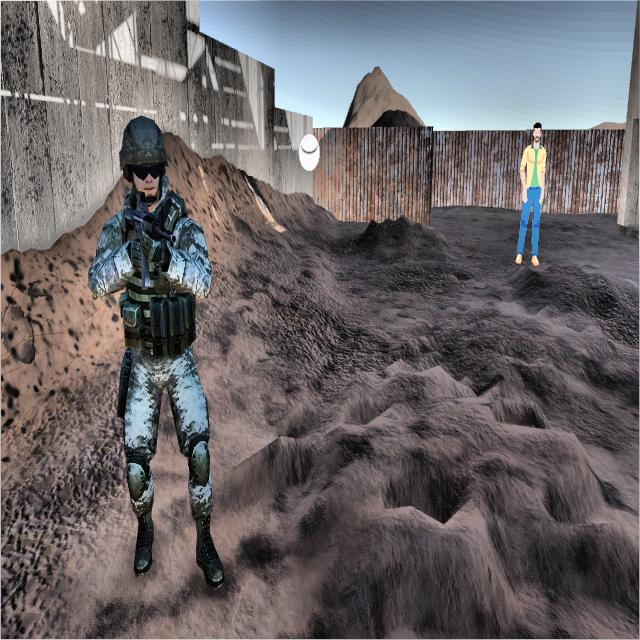bad: (90, 106, 236, 604)
good: (507, 114, 553, 282)
